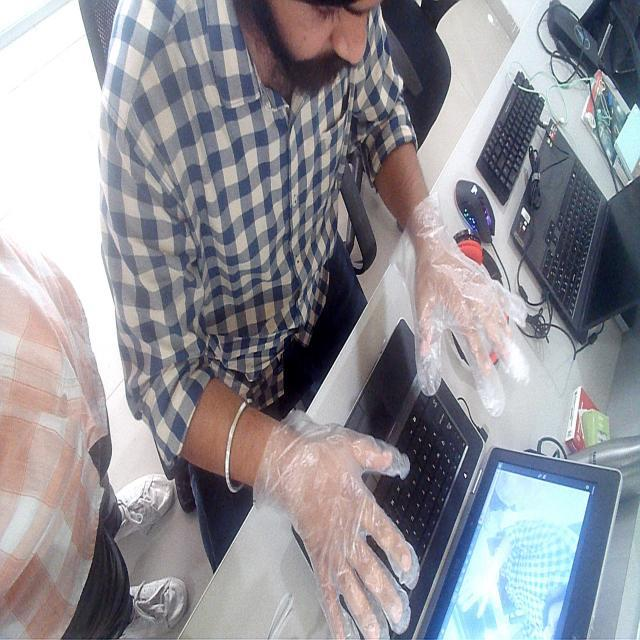with_gloves: (266, 414, 419, 616), (408, 230, 528, 392)
